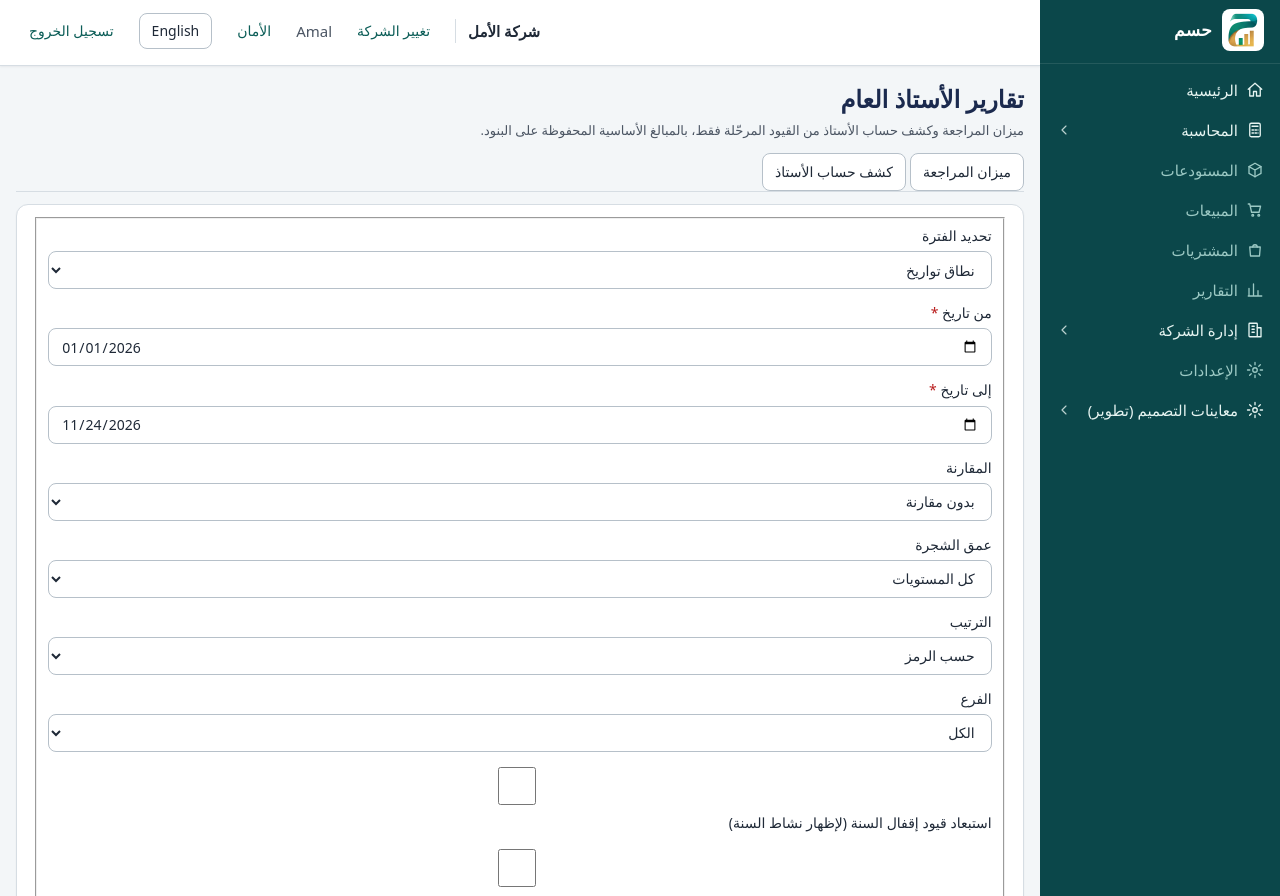
Test: ledger reports: period, comparison, columns, exports, reconciliation and drill-down › shows no drill-down link without the journal permission
expect the element with test id "company-name" is shown: met, box [455, 19, 540, 43]
Click the tab "كشف حساب الأستاذ" at (834, 172), box [762, 153, 906, 191]
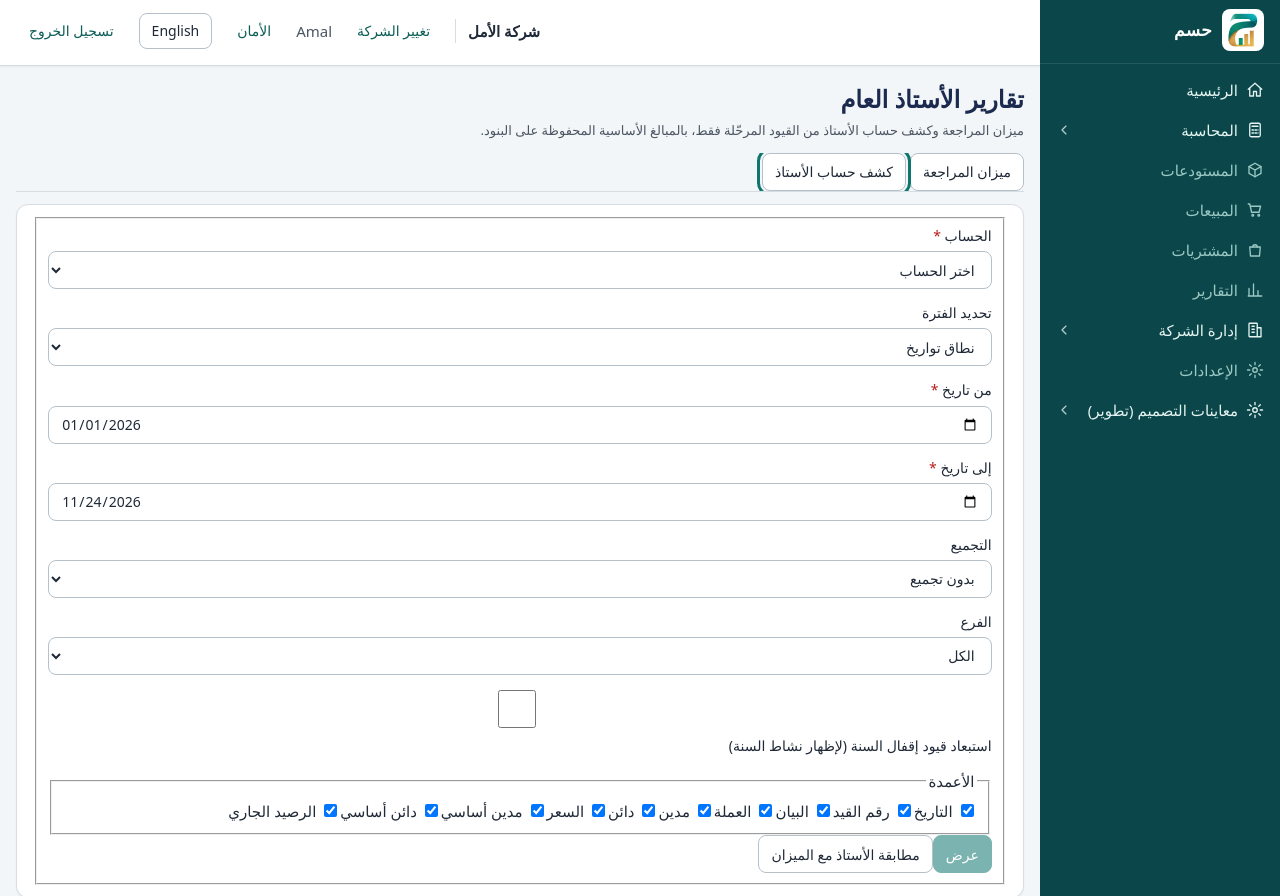
Select "1101 — الصندوق" in the dropdown labelled "الحساب *" at (520, 270), box [48, 251, 992, 289]
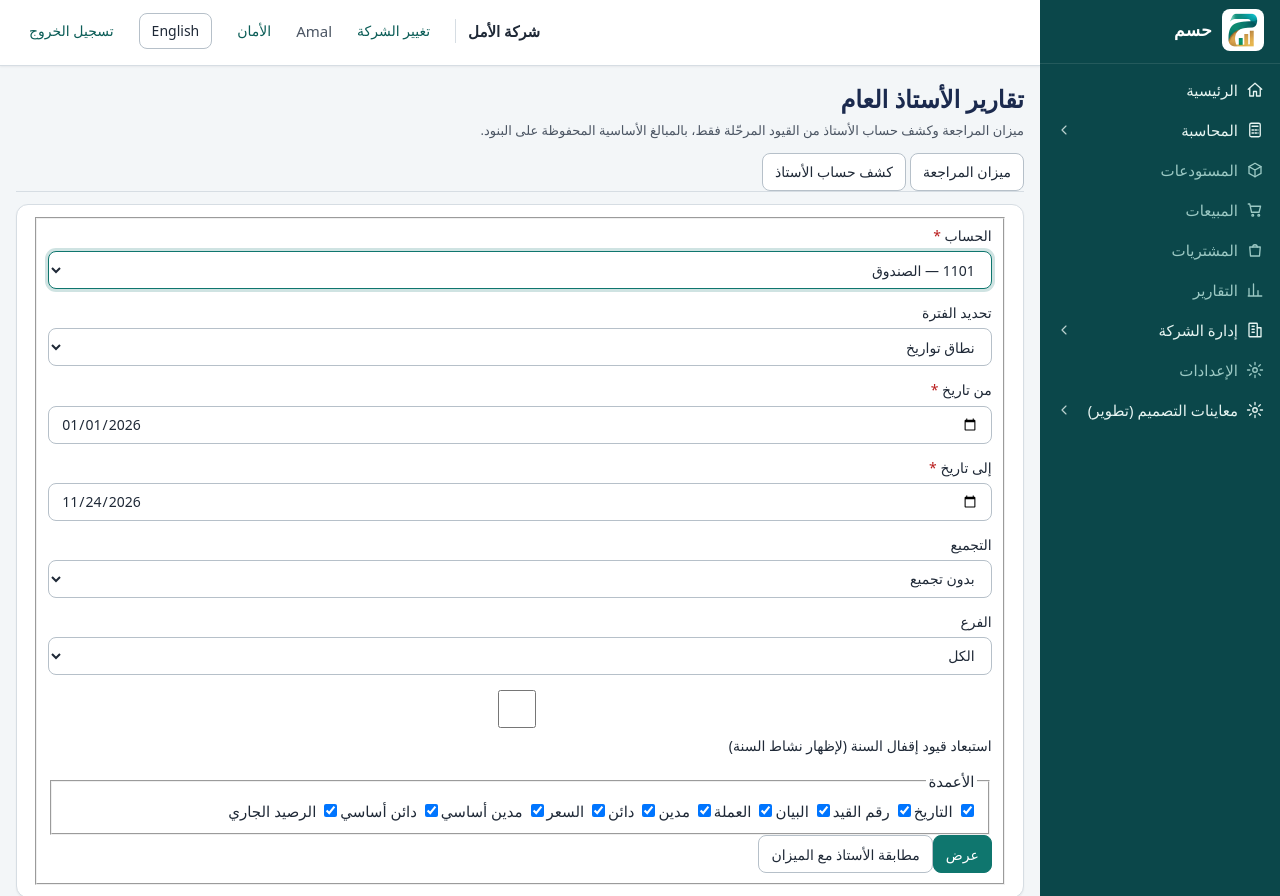
Click the button "عرض" at (962, 854), box [933, 835, 992, 873]
(page scrolled)
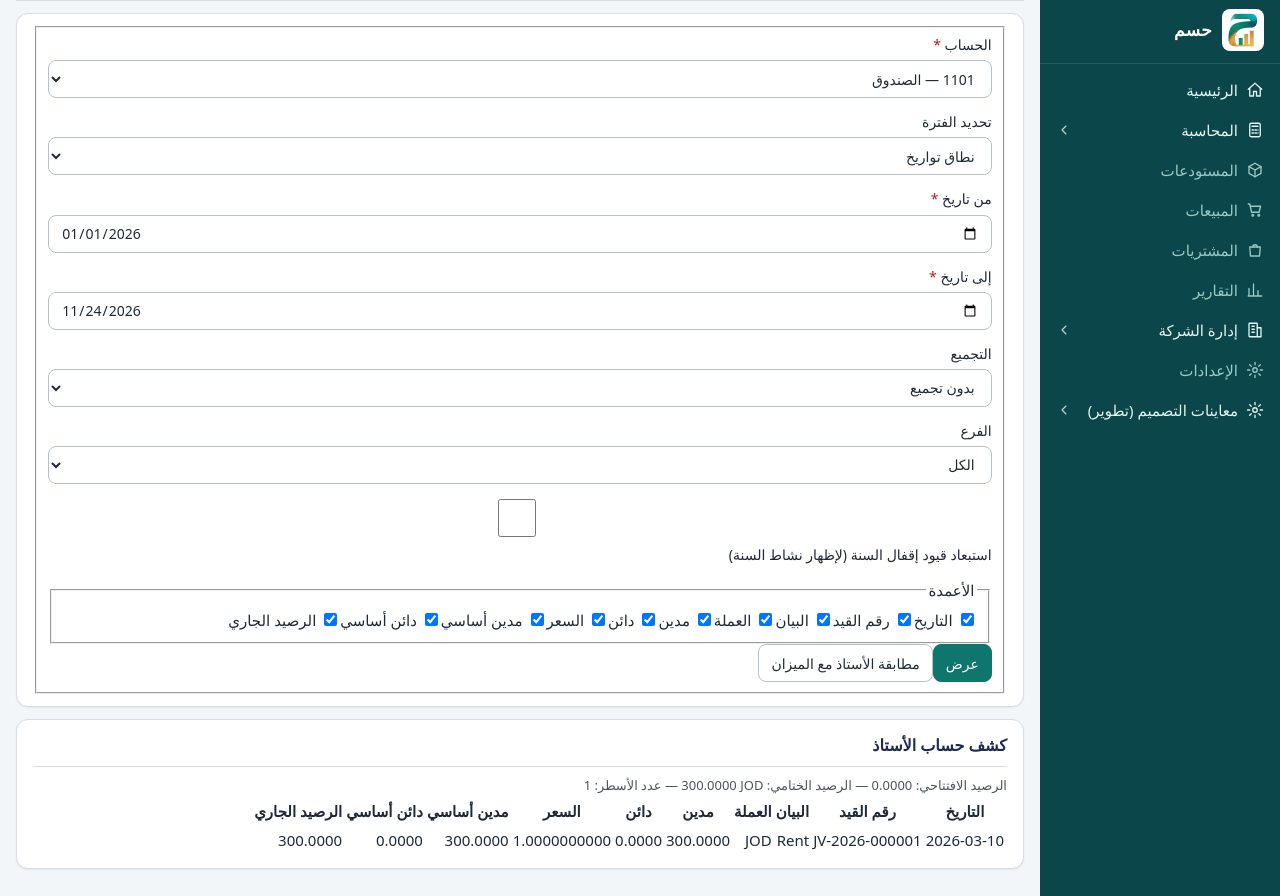
expect the row with test id "rep-gl-row-0" is shown: met, box [253, 827, 1005, 854]
